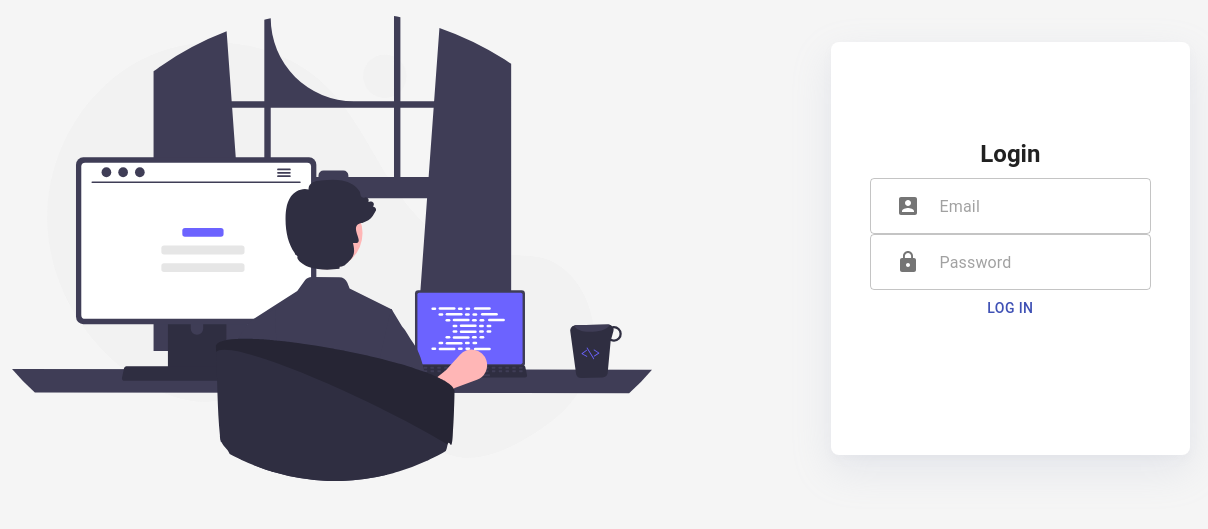
User should be prompted when invalid email address in entered
The image size is (1208, 529).
Step 1. Type "test" into the element with test id "email" → (1010, 206), box [870, 178, 1151, 234]
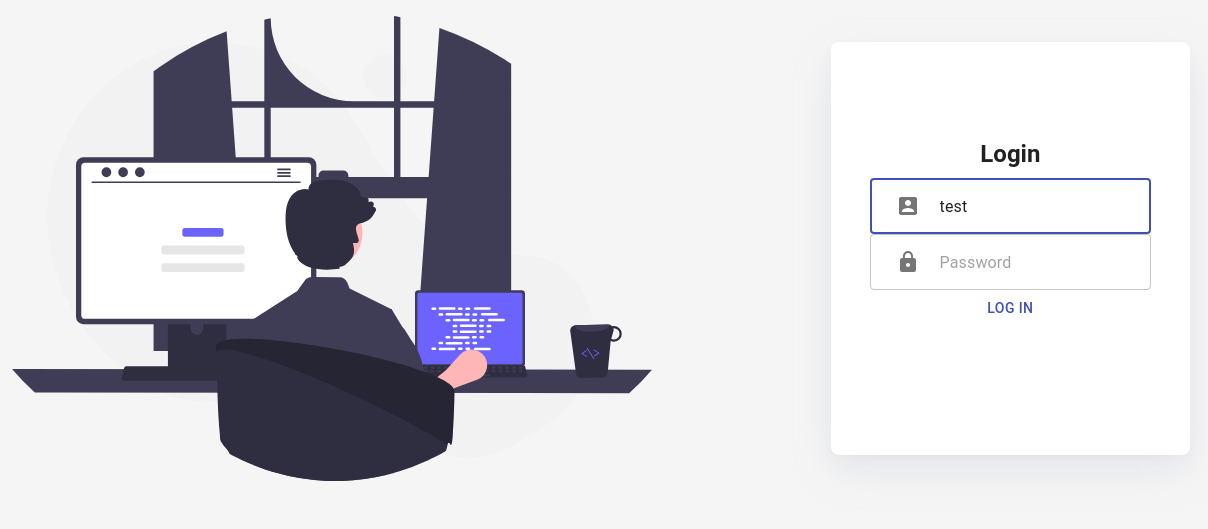
Step 2. Click the button with test id "login-button" → (1010, 308), box [870, 290, 1151, 326]
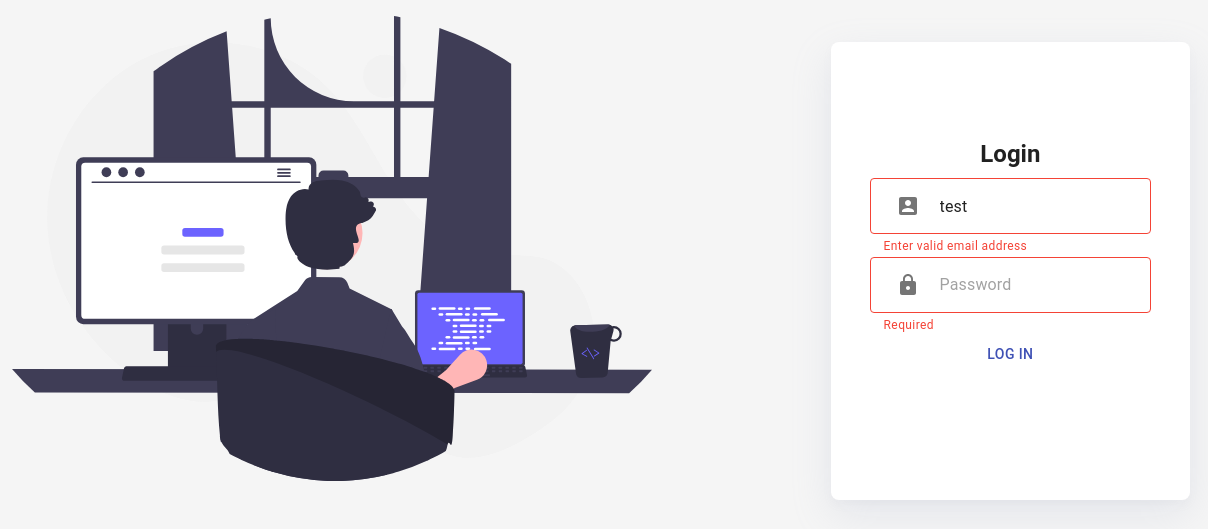
Result: the text "Enter valid email address" is shown at [884, 239, 1027, 253]
